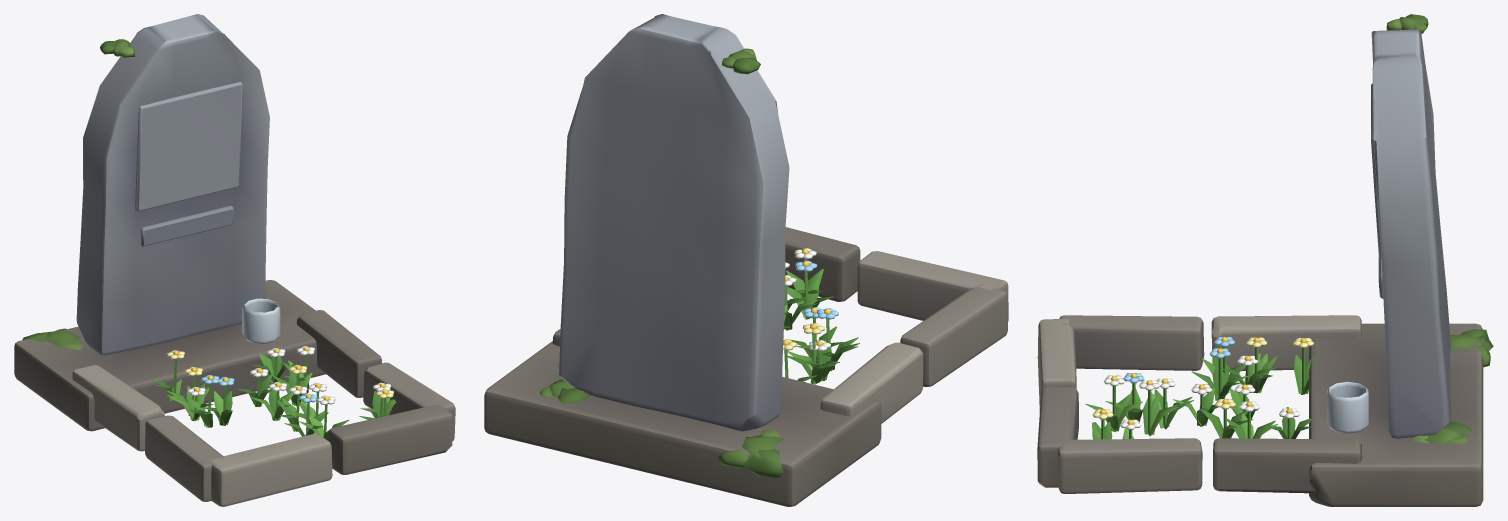
File: pr_grave.glb
3 renders of one model, left to right at view 1: azimuth 30°, elevation 25°; view 2: azimuth 150°, elevation 25°; view 3: azimuth 270°, elevation 25°, orthographic. The views are drawn at different scales.
Parts seen in each view (by area): view 1: PR_grave__body; view 2: PR_grave__body; view 3: PR_grave__body.
Boxes of the visible parts, x1,y1,x2,y2 form: PR_grave__body: [14, 14, 455, 506]; PR_grave__body: [484, 14, 1008, 506]; PR_grave__body: [1037, 14, 1493, 506].
Size of the model in its own units: 1.42 by 1.8 by 1.89.
